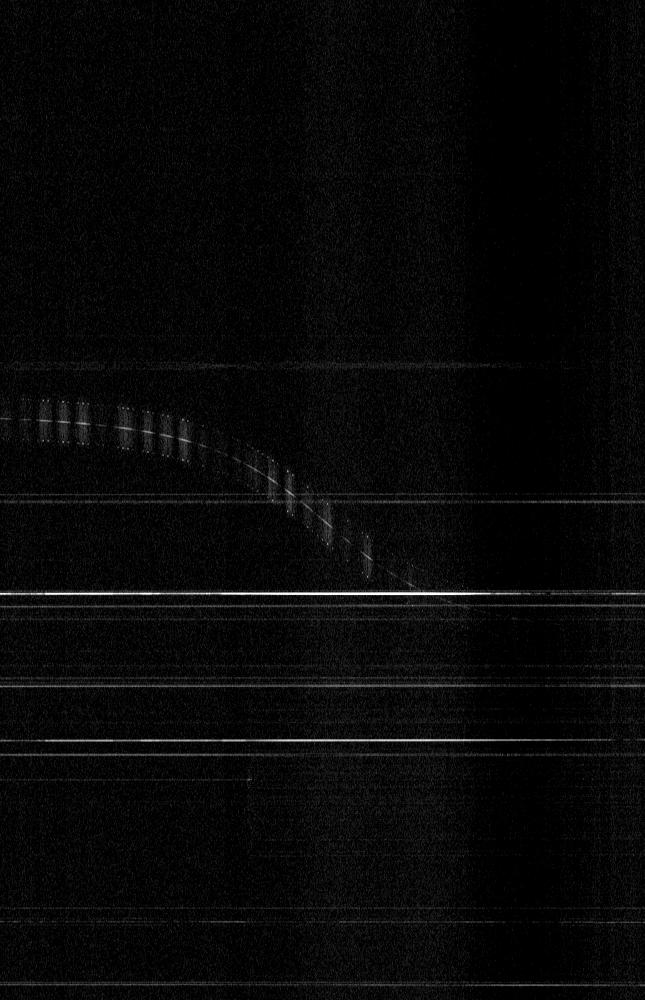signal: (0, 0, 644, 999)
